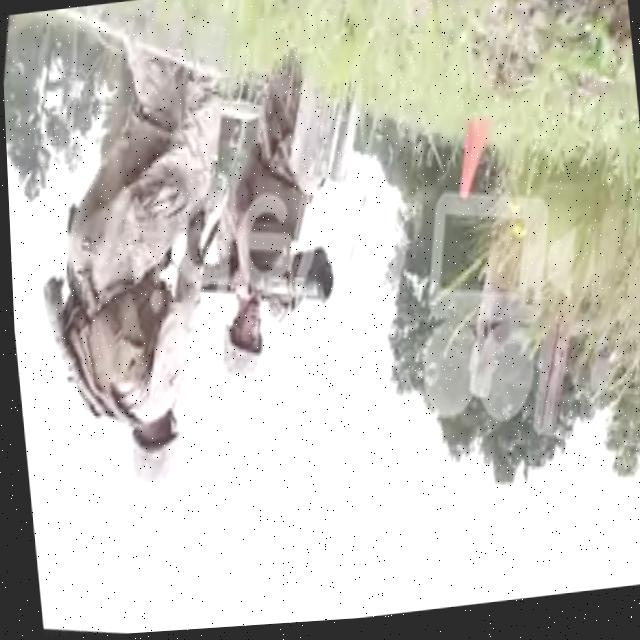rocket: (190, 233, 337, 333)
